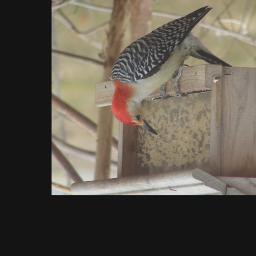Woodpecker: (105, 10, 224, 136)
